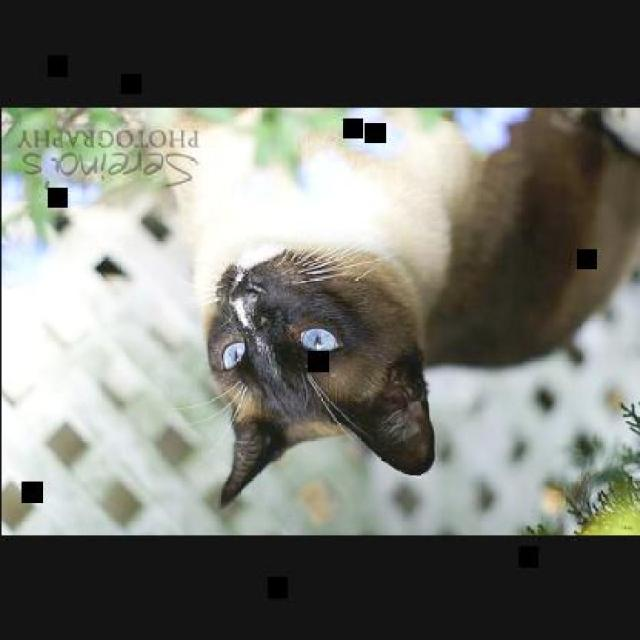unauthorized: (40, 105, 638, 509)
